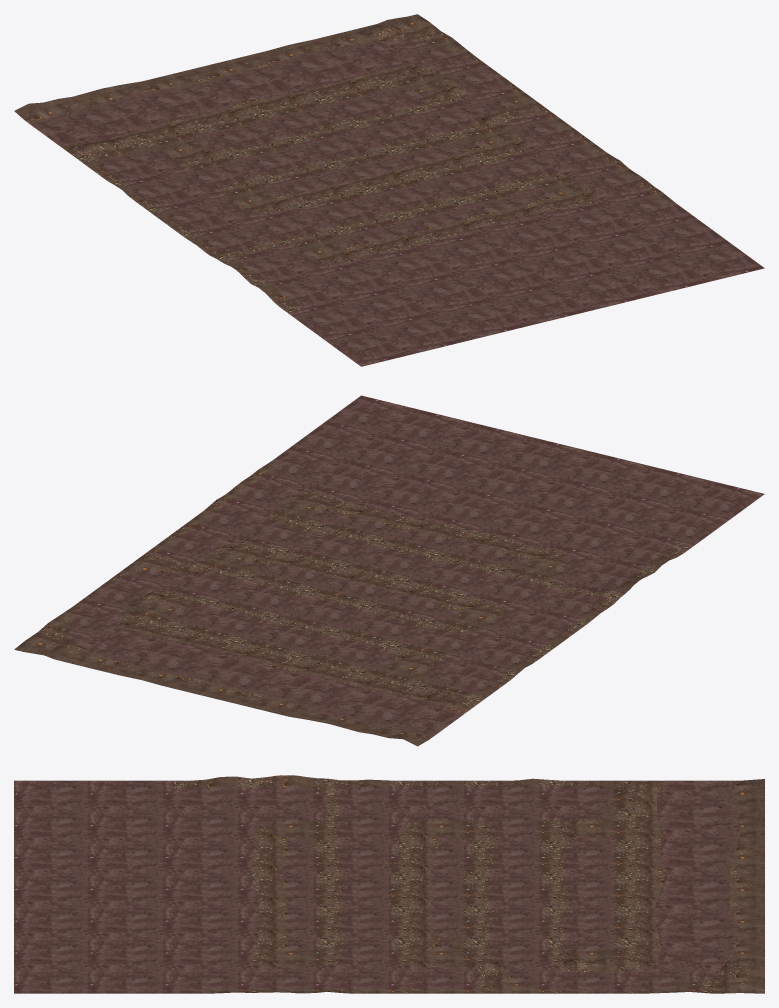
Rendered from eart.fbx.
3 renders of one model, top to bottom at view 1: azimuth 30°, elevation 25°; view 2: azimuth 150°, elevation 25°; view 3: azimuth 270°, elevation 25°, orthographic. The views are drawn at different scales.
Parts seen in each view (by area): view 1: Plane.001; view 2: Plane.001; view 3: Plane.001.
Part boxes in pixels (x1=…): Plane.001: x1=14, y1=14, x2=764, y2=366; Plane.001: x1=14, y1=395, x2=764, y2=746; Plane.001: x1=14, y1=775, x2=764, y2=993.
Size of the model in its own units: 11289 by 151 by 16813.
